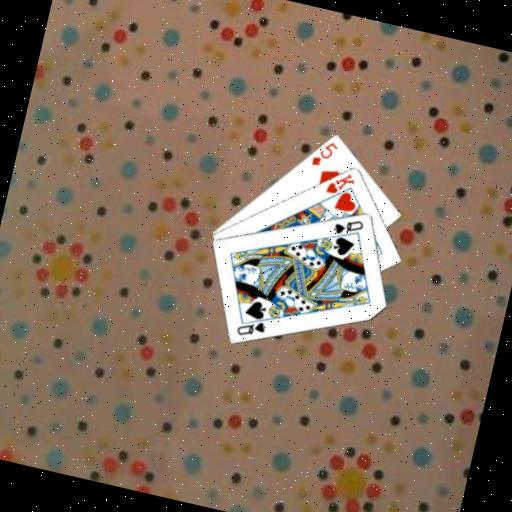5D: (308, 135, 341, 172)
KH: (322, 166, 359, 200)
QS: (329, 211, 366, 241), (233, 313, 269, 342)
